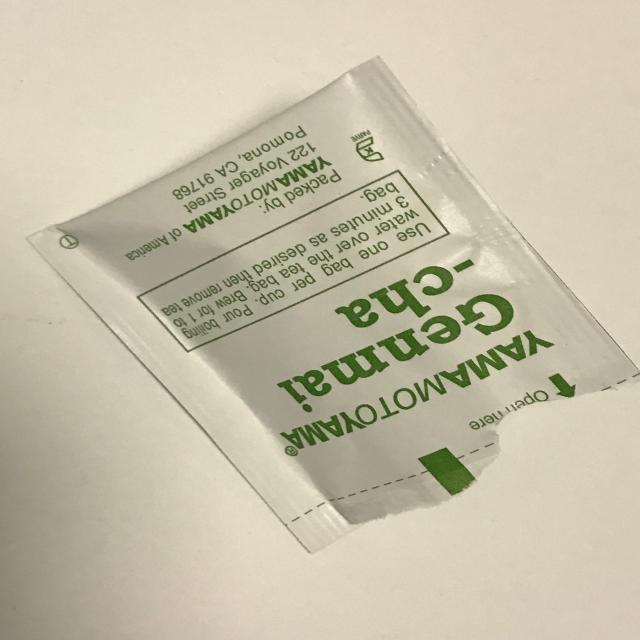Trash: (24, 53, 640, 554)
